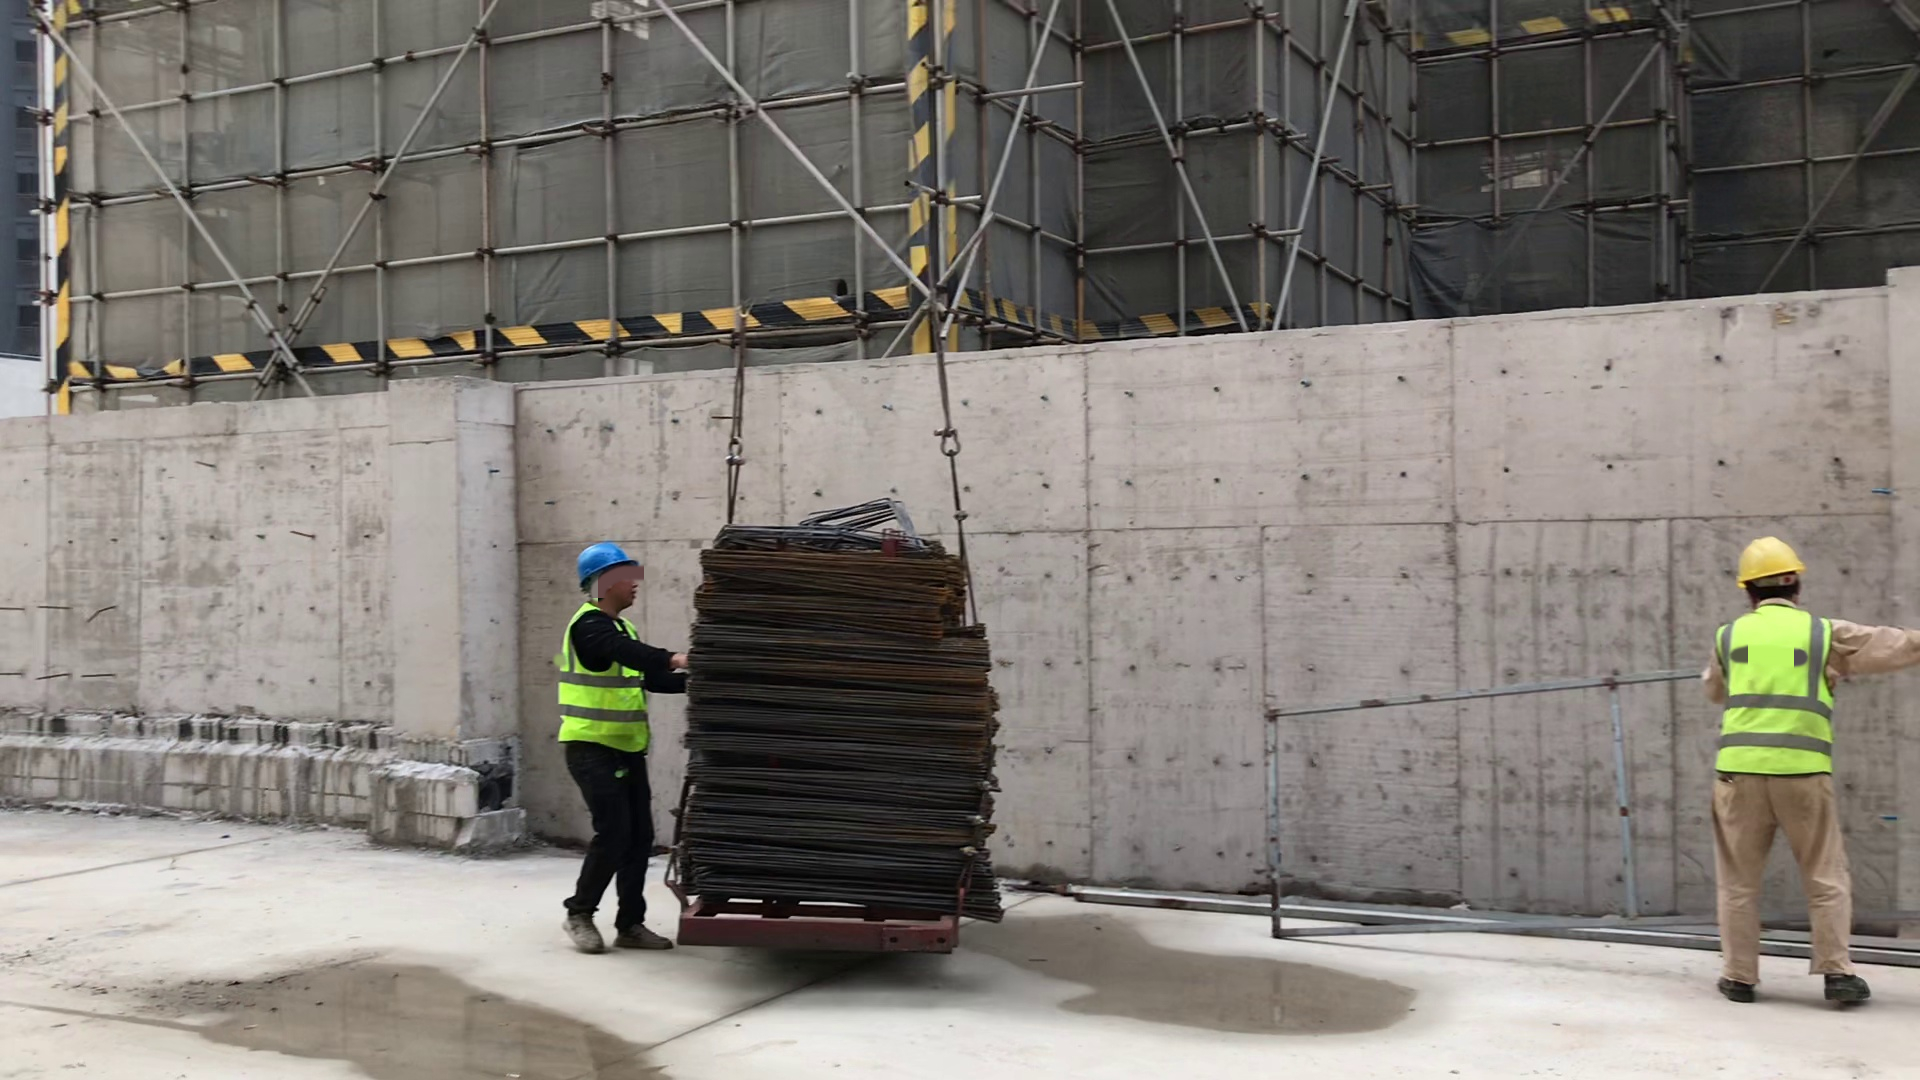helmet: (1731, 528, 1817, 610), (567, 536, 667, 599)
person: (1699, 526, 1885, 1022), (524, 526, 680, 977)
vest: (1717, 615, 1837, 784), (554, 615, 653, 754)
